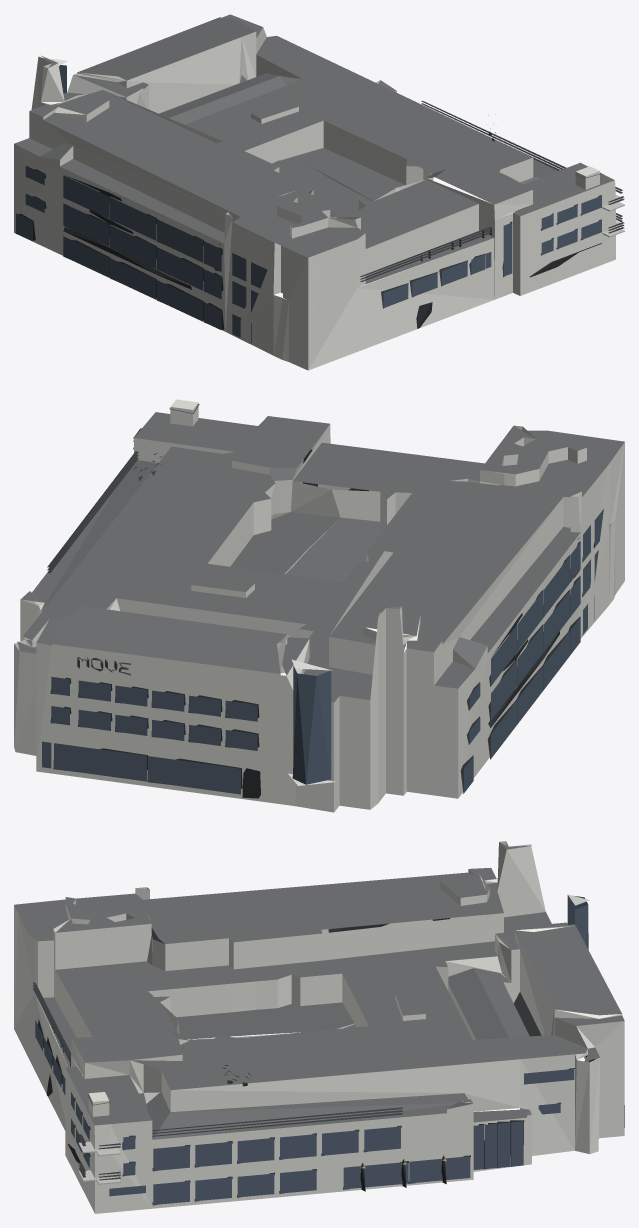
Rendered from citroen-zuid.lod1.glb.
3 views of the same model, one above another, from view 1: azimuth 30°, elevation 25°; view 2: azimuth 150°, elevation 25°; view 3: azimuth 270°, elevation 25° (orthographic). The views are drawn at different scales.
Parts seen in each view (by area): view 1: citroen-zuid; view 2: citroen-zuid; view 3: citroen-zuid.
Part boxes in pixels (x1,y1,x2,y2): citroen-zuid: (14,14,624,370); citroen-zuid: (14,399,624,812); citroen-zuid: (14,841,624,1213).
Size of the model in its own units: 63.33 by 20.98 by 70.05.
